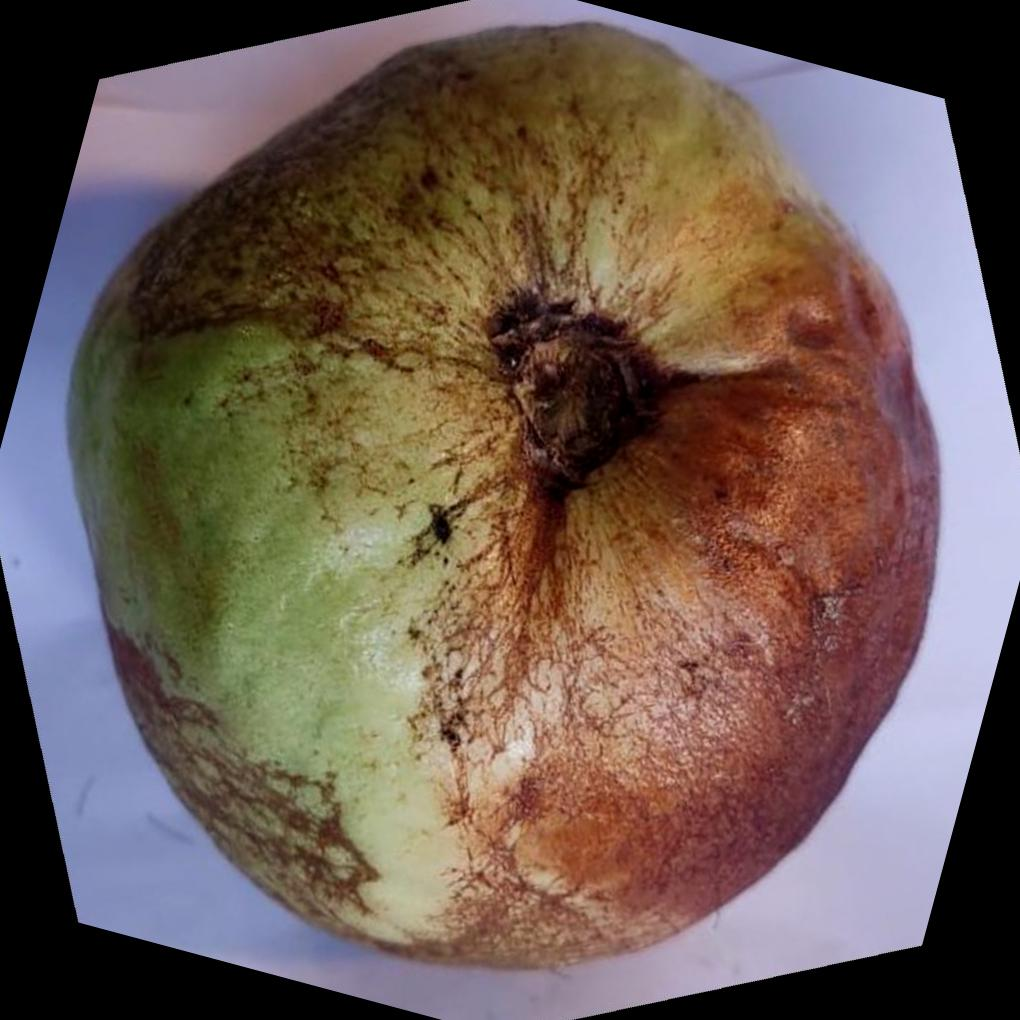FreshOrange: (60, 20, 938, 971)
